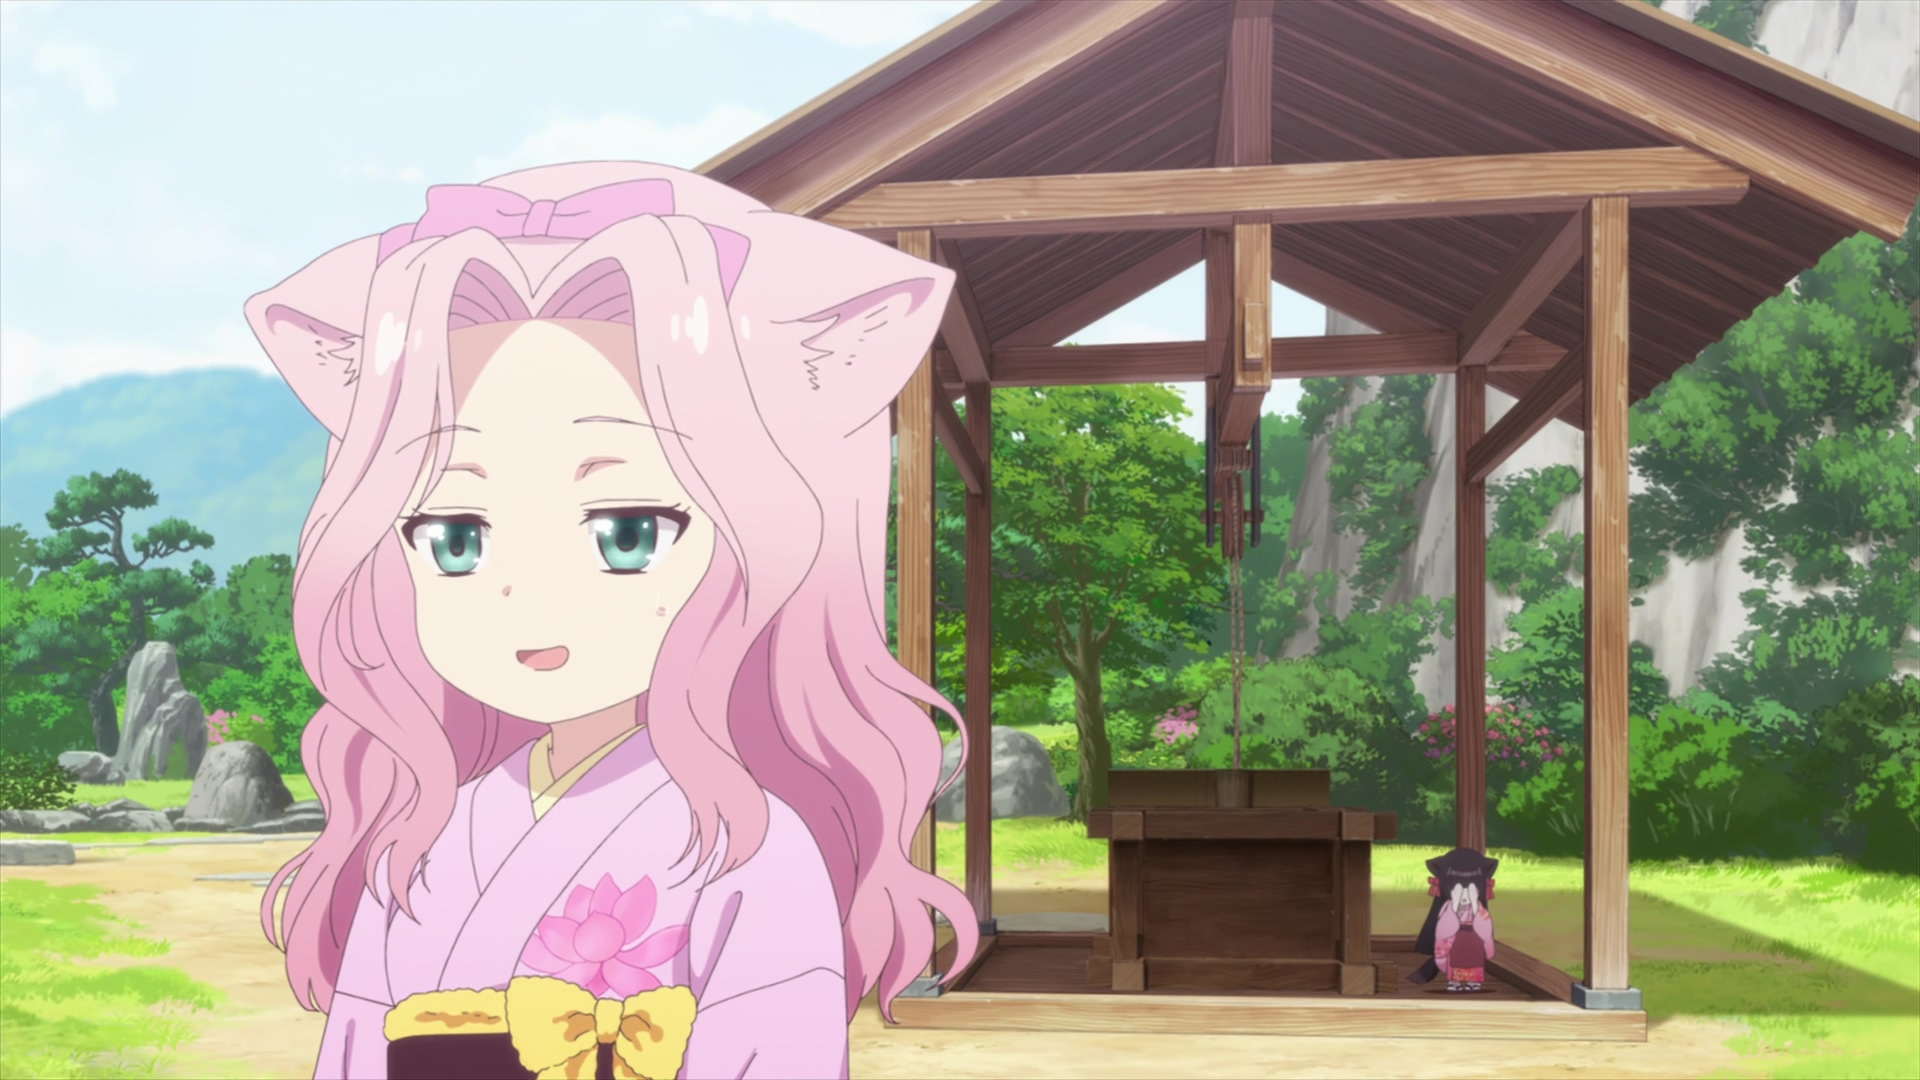樱: (1414, 845, 1503, 992)
莲: (243, 160, 980, 1080)
